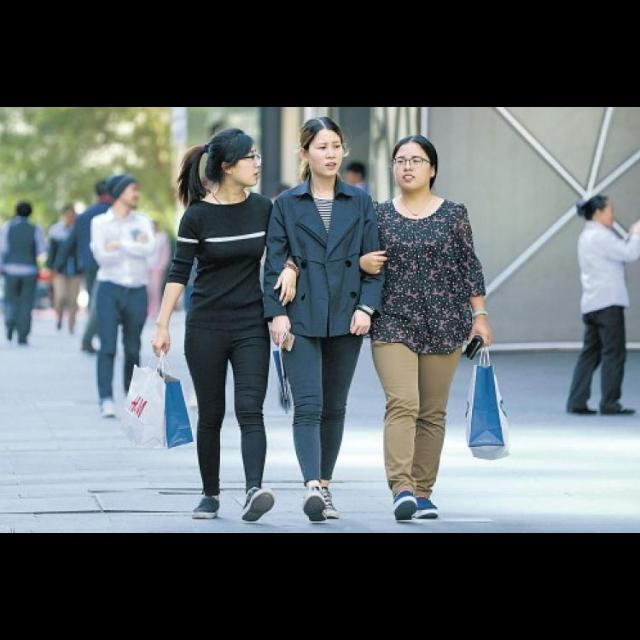head: (208, 130, 264, 188), (298, 116, 347, 176), (393, 134, 439, 192), (587, 196, 615, 228), (115, 176, 141, 210), (98, 180, 122, 204), (61, 206, 78, 227), (16, 203, 32, 219)
person: (114, 126, 302, 526), (355, 128, 515, 526), (258, 114, 388, 524), (88, 172, 162, 426), (52, 179, 140, 359), (1, 196, 52, 346), (42, 202, 88, 340)
